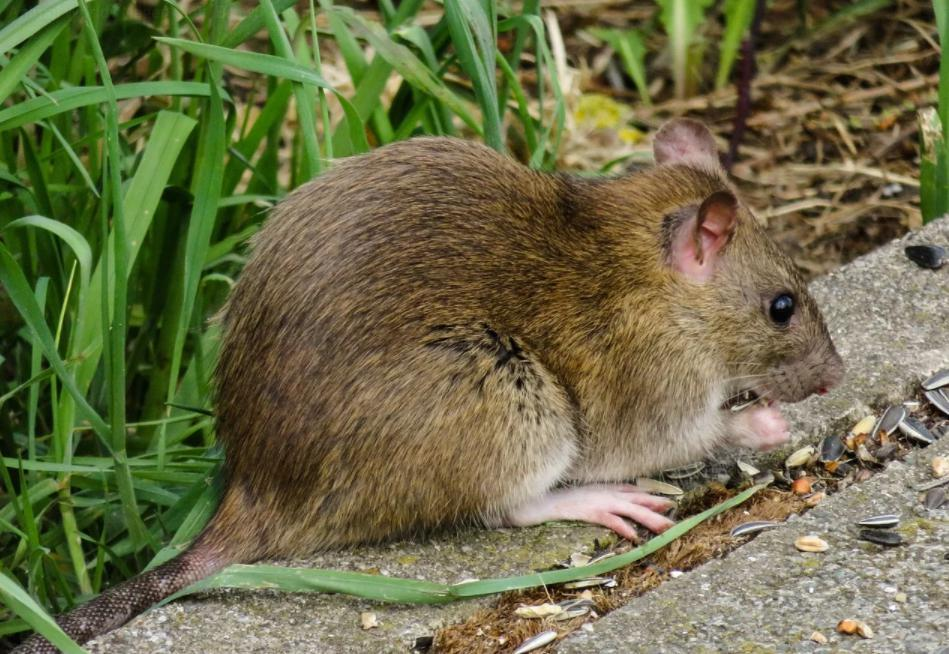rat: (16, 119, 848, 654)
